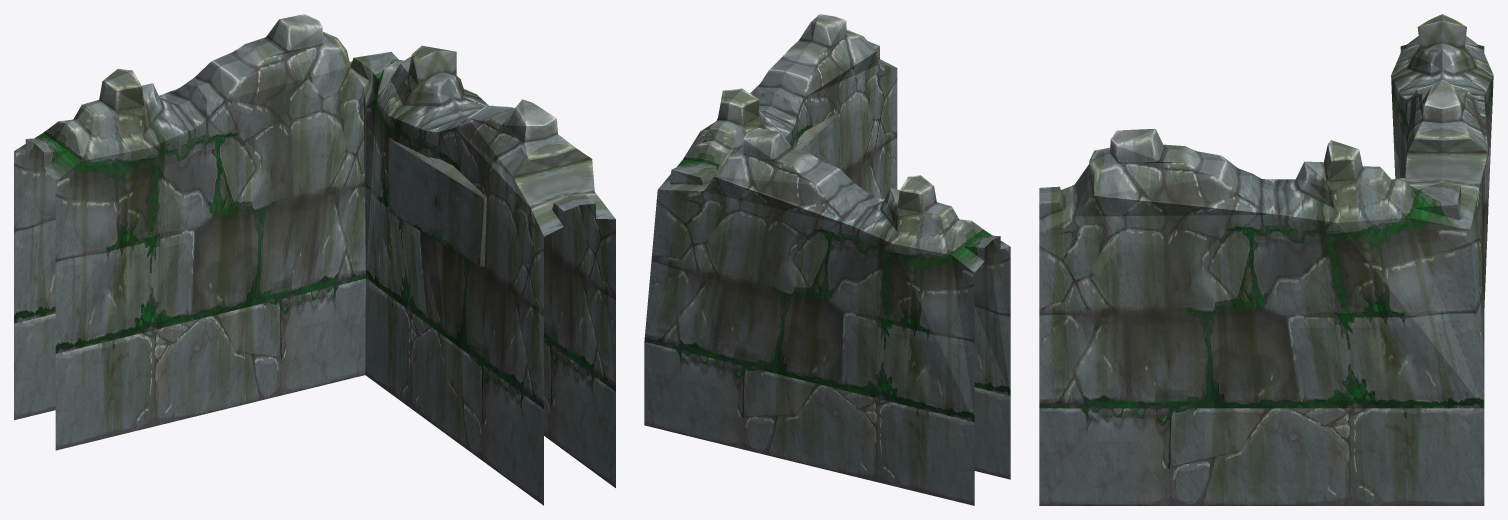
Rendered from stemple_half_concave_03.fbx.
3 views of the same model, side by side, from view 1: azimuth 30°, elevation 25°; view 2: azimuth 150°, elevation 25°; view 3: azimuth 270°, elevation 25° (orthographic). The views are drawn at different scales.
Visible parts, largest first — view 1: obj2.002; view 2: obj2.002; view 3: obj2.002.
Part boxes in pixels (left/top/right/bottom): obj2.002: left=14, top=14, right=615, bottom=505; obj2.002: left=644, top=14, right=1010, bottom=505; obj2.002: left=1039, top=14, right=1493, bottom=505.
Bounding box in the file's own units: 4.51 × 3.94 × 4.51.
